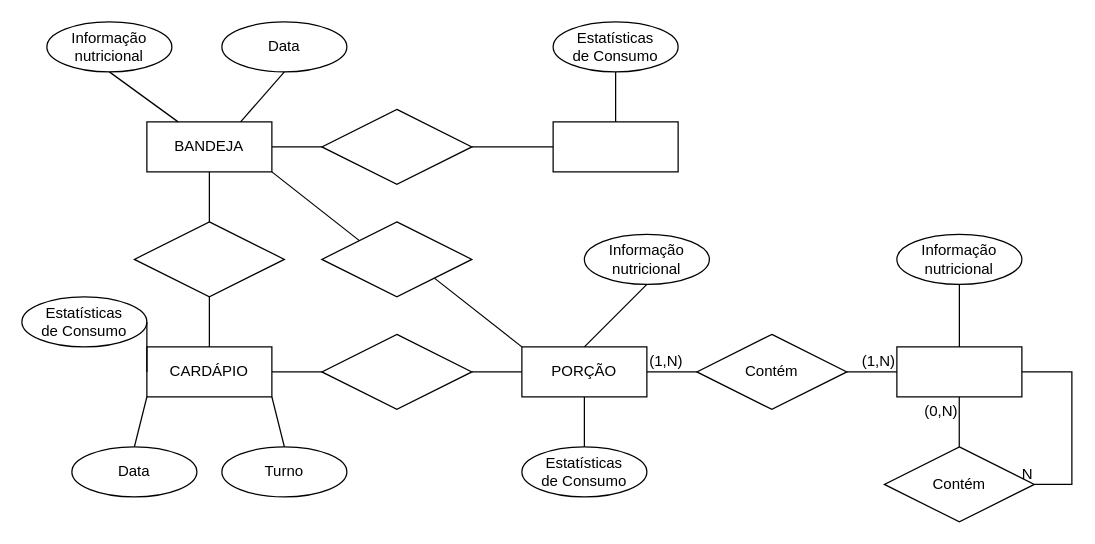
Image size: 1095x544. Some labels were removed from this diagram. The shapes that lost their labels are listed below. From the top down, each one's centre as x and y in pixels, then its label:
point (396, 146): Monta
point (615, 146): ALUNO
point (208, 259): Observa
point (396, 259): Escolhe
point (396, 371): Inclui
point (959, 371): INGREDIENTE
